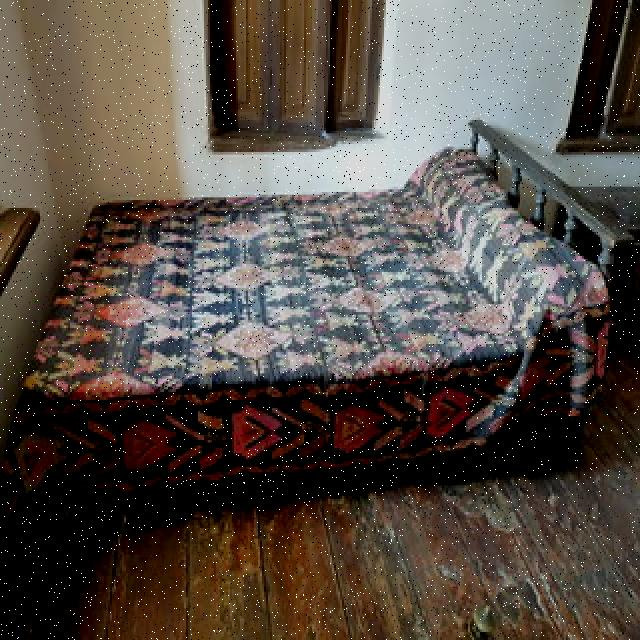bed: (26, 151, 601, 471)
